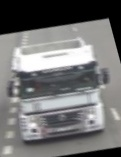truck: (0, 23, 121, 156)
